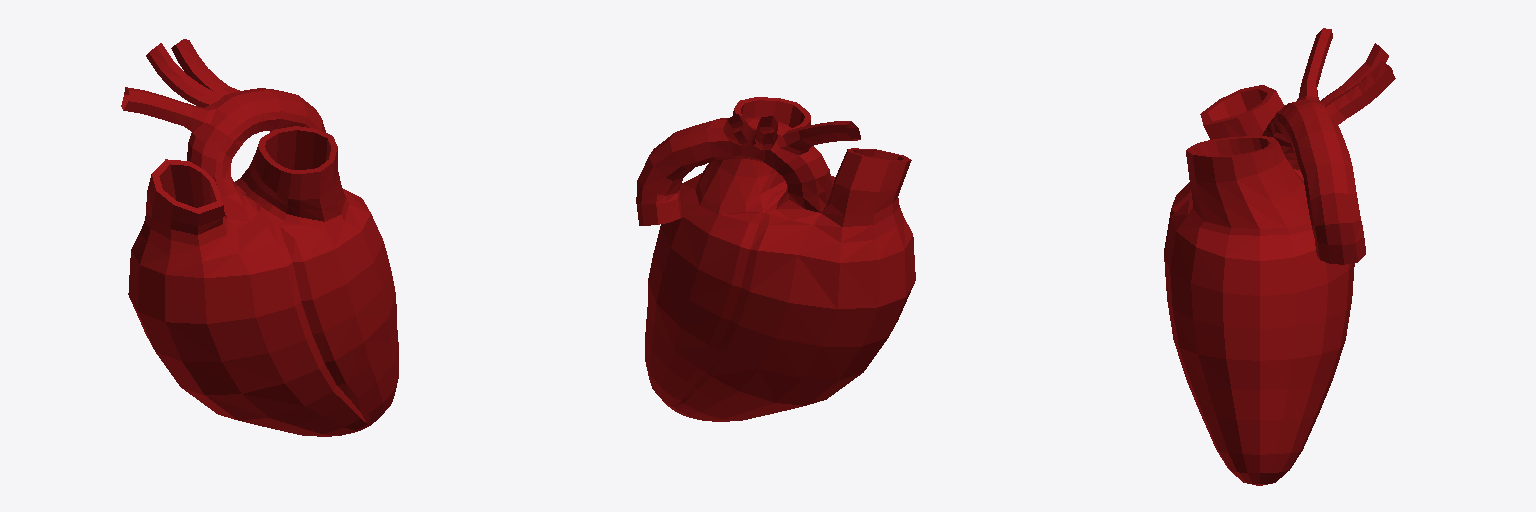
File: heart.obj
The picture shows the model from 3 angles: view 1: azimuth 30°, elevation 25°; view 2: azimuth 150°, elevation 25°; view 3: azimuth 270°, elevation 25°; orthographic projection.
Parts seen in each view (by area): view 1: Sphere; view 2: Sphere; view 3: Sphere.
Boxes of the visible parts, x1=… form: Sphere: x1=121, y1=39, x2=398, y2=436; Sphere: x1=636, y1=97, x2=915, y2=421; Sphere: x1=1164, y1=28, x2=1395, y2=485.
Size of the model in its own units: 6.58 by 9.18 by 5.15.